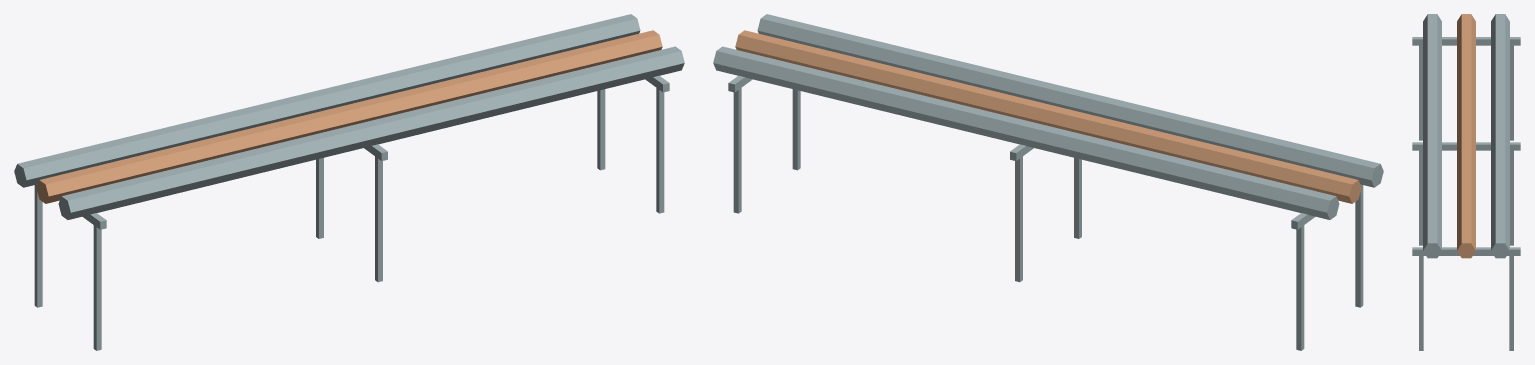
3 renders of one model, left to right at view 1: azimuth 30°, elevation 25°; view 2: azimuth 150°, elevation 25°; view 3: azimuth 270°, elevation 25°, orthographic. The views are drawn at different scales.
Bounding box in the file's own units: 24 × 5.66 × 4.8.
